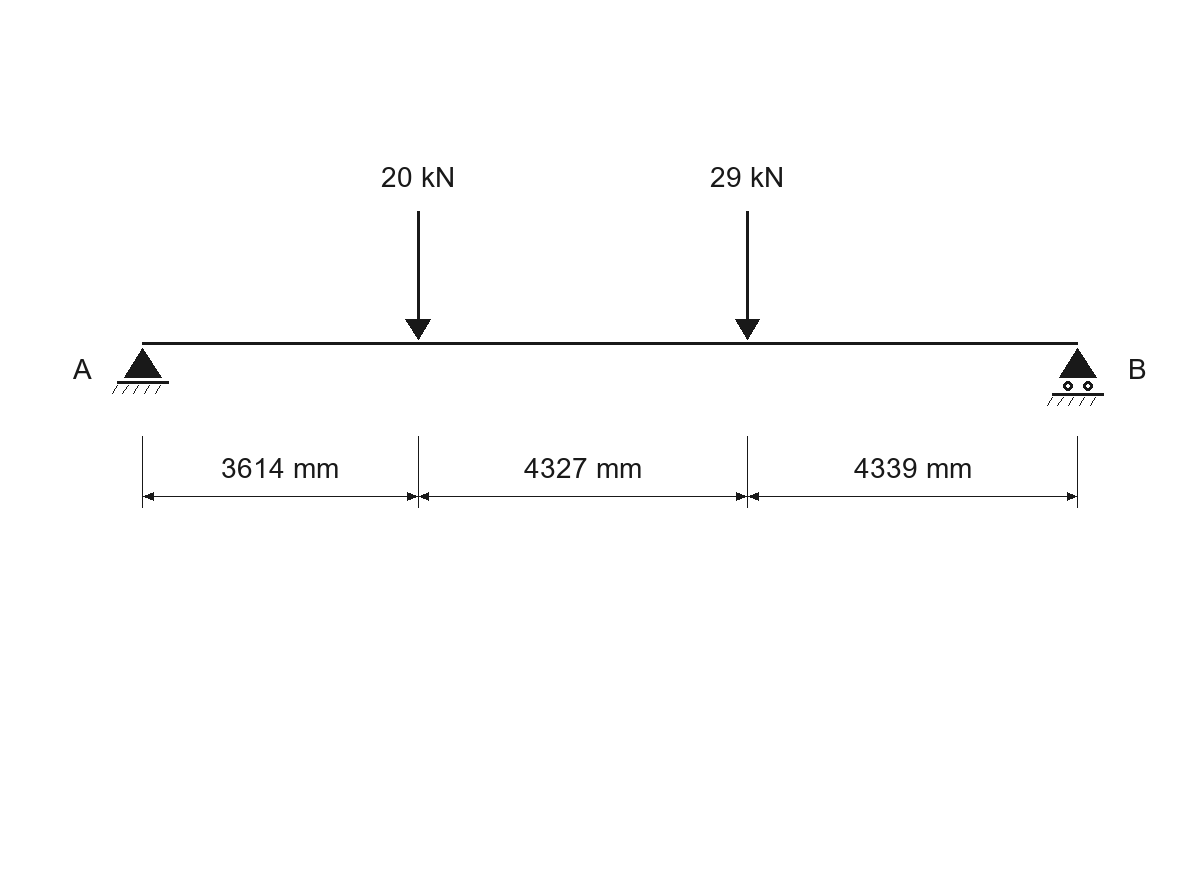pin_support: (112, 348, 169, 394)
point_load: (405, 211, 431, 340), (735, 211, 760, 340)
roller_support: (1047, 348, 1104, 406)
